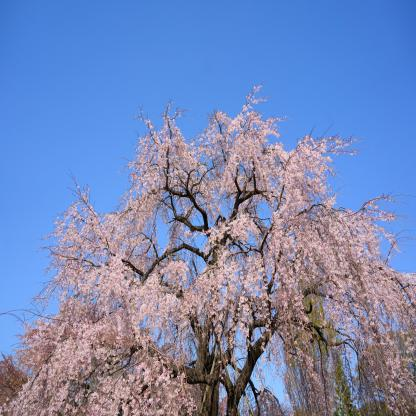ShidareZakura: (0, 80, 416, 416)
